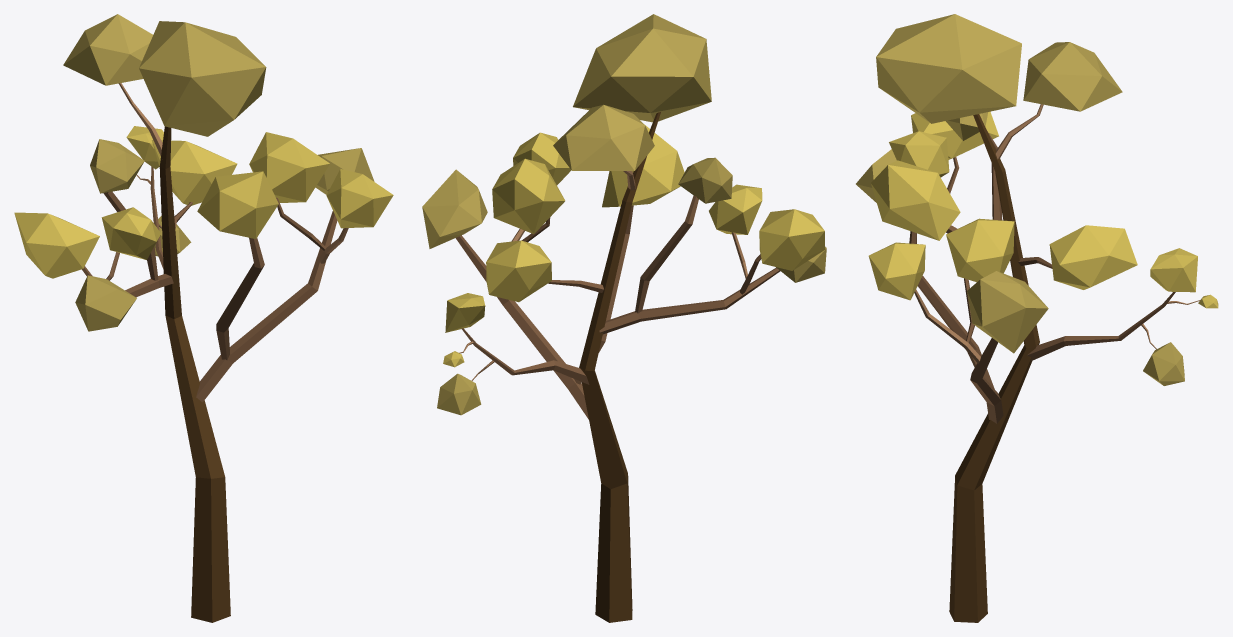
Rendered from TreeSycamore_02.fbx.
3 views of the same model, side by side, from view 1: azimuth 30°, elevation 25°; view 2: azimuth 150°, elevation 25°; view 3: azimuth 270°, elevation 25° (orthographic). The views are drawn at different scales.
Parts seen in each view (by area): view 1: TreeSycamore_02; view 2: TreeSycamore_02; view 3: TreeSycamore_02.
Boxes of the visible parts, x1=… form: TreeSycamore_02: x1=14, y1=14, x2=393, y2=622; TreeSycamore_02: x1=422, y1=14, x2=826, y2=622; TreeSycamore_02: x1=856, y1=14, x2=1218, y2=622.
Size of the model in its own units: 370 by 575 by 322.
